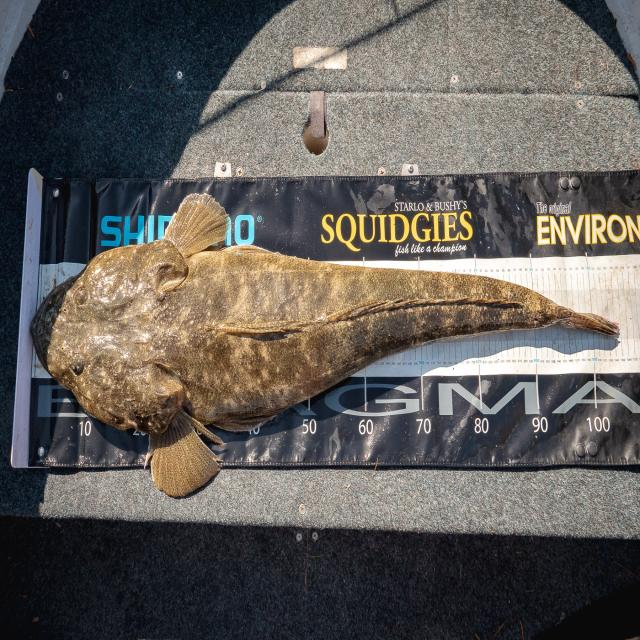Flathead: (27, 185, 622, 502)
